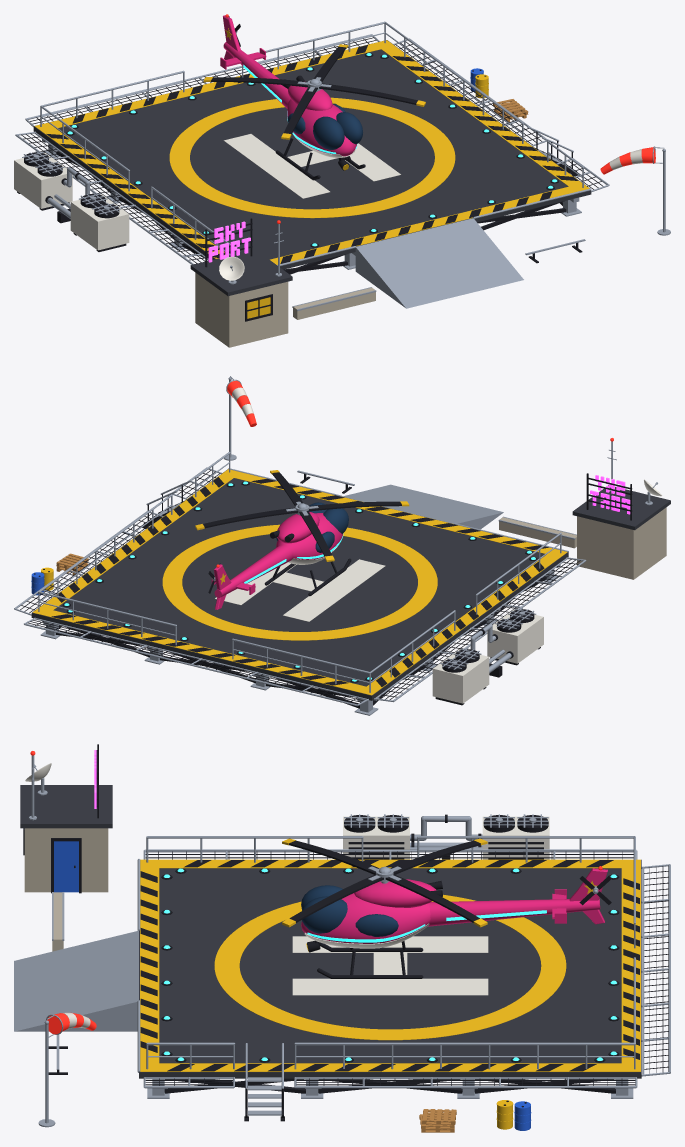
The model's file is rooftop_helipad.glb.
3 views of the same model, one above another, from view 1: azimuth 30°, elevation 25°; view 2: azimuth 150°, elevation 25°; view 3: azimuth 270°, elevation 25° (orthographic). The views are drawn at different scales.
Parts seen in each view (by area): view 1: Drive_Helipad_Deck, Deco_Deck_YellowMarks, Drive_Ramp, Wall_Shack_Walls, Deco_Deck_HazardStripes, Deco_Deck_H, Wall_Heli_Body, Deco_SafetyNet_Mesh, Deco_SafetyNet_Frame, Wall_GuardRail_Posts, Drive_Shack_Roof, Wall_AC_Unit_A (+14 smaller); view 2: Drive_Helipad_Deck, Deco_Deck_YellowMarks, Wall_Shack_Walls, Deco_Deck_HazardStripes, Deco_SafetyNet_Mesh, Deco_SafetyNet_Frame, Wall_Heli_Body, Deco_Deck_H, Drive_Ramp, Wall_GuardRail_Posts, Drive_Shack_Roof, Wall_AC_Unit_B (+14 smaller); view 3: Drive_Helipad_Deck, Deco_Deck_YellowMarks, Drive_Ramp, Wall_Heli_Body, Deco_Deck_H, Deco_Deck_HazardStripes, Deco_SafetyNet_Frame, Deco_SafetyNet_Mesh, Wall_Shack_Walls, Drive_Shack_Roof, Rotor_Main_Blades, Wall_GuardRail_Posts (+19 smaller).
Part boxes in pixels (x1,y1,x2,y2): Drive_Helipad_Deck: (33, 40, 591, 269); Deco_Deck_YellowMarks: (34, 40, 589, 264); Drive_Ramp: (355, 218, 523, 308); Wall_Shack_Walls: (195, 272, 288, 347); Deco_Deck_HazardStripes: (46, 45, 578, 263); Deco_Deck_H: (223, 134, 400, 198); Wall_Heli_Body: (220, 15, 356, 156); Deco_SafetyNet_Mesh: (21, 37, 603, 263); Deco_SafetyNet_Frame: (15, 34, 609, 264); Wall_GuardRail_Posts: (40, 23, 583, 255); Drive_Shack_Roof: (190, 249, 292, 296); Wall_AC_Unit_A: (70, 194, 129, 250); Drive_Helipad_Deck: (31, 469, 568, 700); Deco_Deck_YellowMarks: (32, 469, 567, 695); Wall_Shack_Walls: (577, 507, 666, 579); Deco_Deck_HazardStripes: (51, 477, 548, 686); Deco_SafetyNet_Mesh: (20, 470, 580, 703); Deco_SafetyNet_Frame: (14, 467, 586, 706); Wall_Heli_Body: (211, 512, 342, 609); Deco_Deck_H: (215, 559, 385, 621); Drive_Ramp: (342, 484, 503, 529); Wall_GuardRail_Posts: (38, 454, 561, 692); Drive_Shack_Roof: (572, 485, 670, 530); Wall_AC_Unit_B: (432, 649, 489, 703); Drive_Helipad_Deck: (139, 859, 641, 1078); Deco_Deck_YellowMarks: (140, 859, 640, 1071); Drive_Ramp: (14, 930, 138, 1031); Wall_Heli_Body: (301, 868, 607, 943); Deco_Deck_H: (292, 936, 488, 995); Deco_Deck_HazardStripes: (140, 860, 639, 1071); Deco_SafetyNet_Frame: (143, 849, 670, 1088); Deco_SafetyNet_Mesh: (145, 851, 668, 1085); Wall_Shack_Walls: (24, 828, 108, 892); Drive_Shack_Roof: (20, 785, 112, 828); Rotor_Main_Blades: (289, 840, 480, 922); Wall_GuardRail_Posts: (146, 838, 635, 1069).
Bounding box in the file's own units: 23.58 × 5.45 × 23.52.
